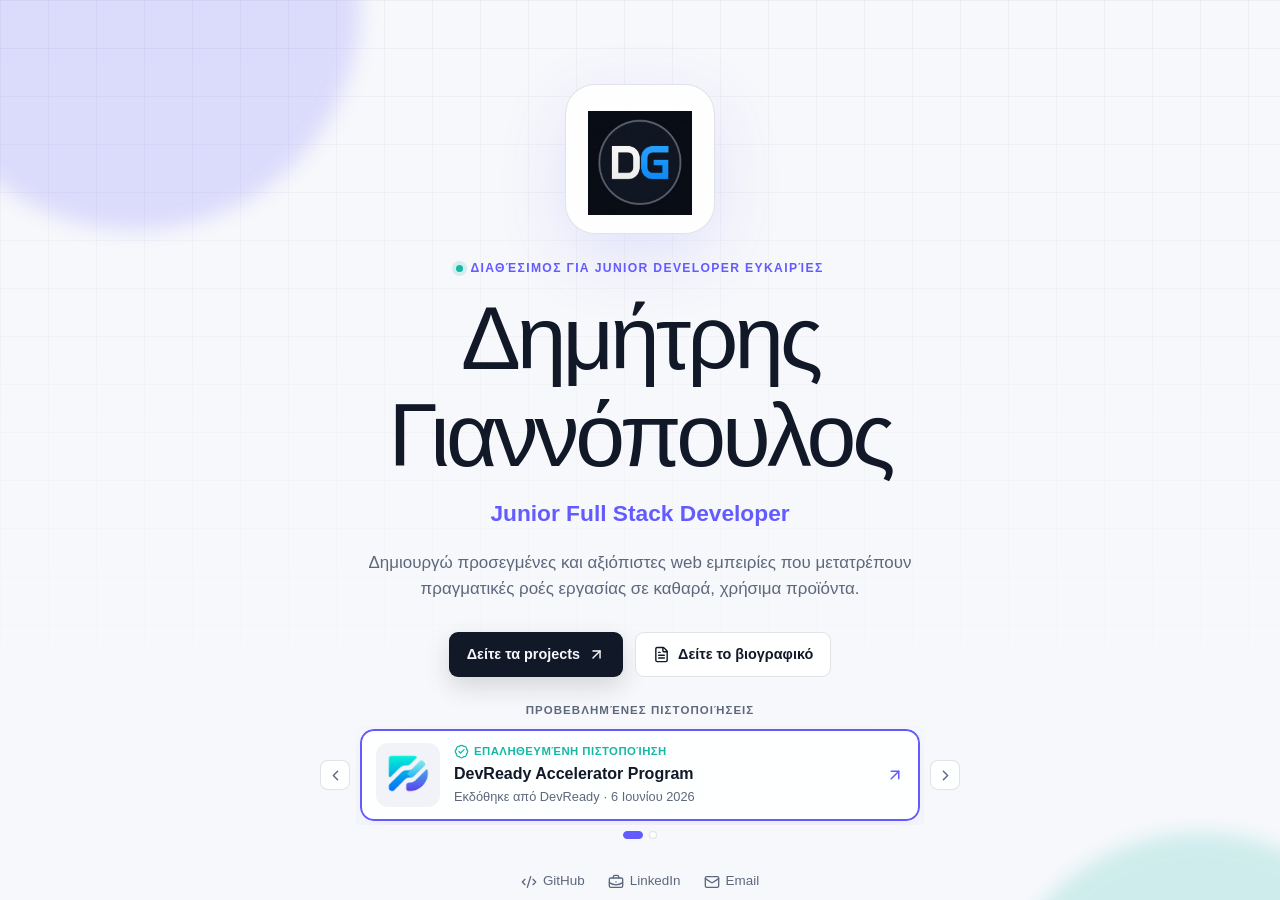
Test case: Hero credential › localizes the credential interface while preserving the official title
Expected: the text "Προβεβλημένες πιστοποιήσεις" is shown, top-left (526, 704), bottom-right (754, 716)
Expected: the text "DevReady Accelerator Program" is shown, top-left (454, 764), bottom-right (694, 782)
Step 1. Click the button named "Επόμενη πιστοποίηση" → click(945, 775), box top-left (930, 760), bottom-right (960, 790)
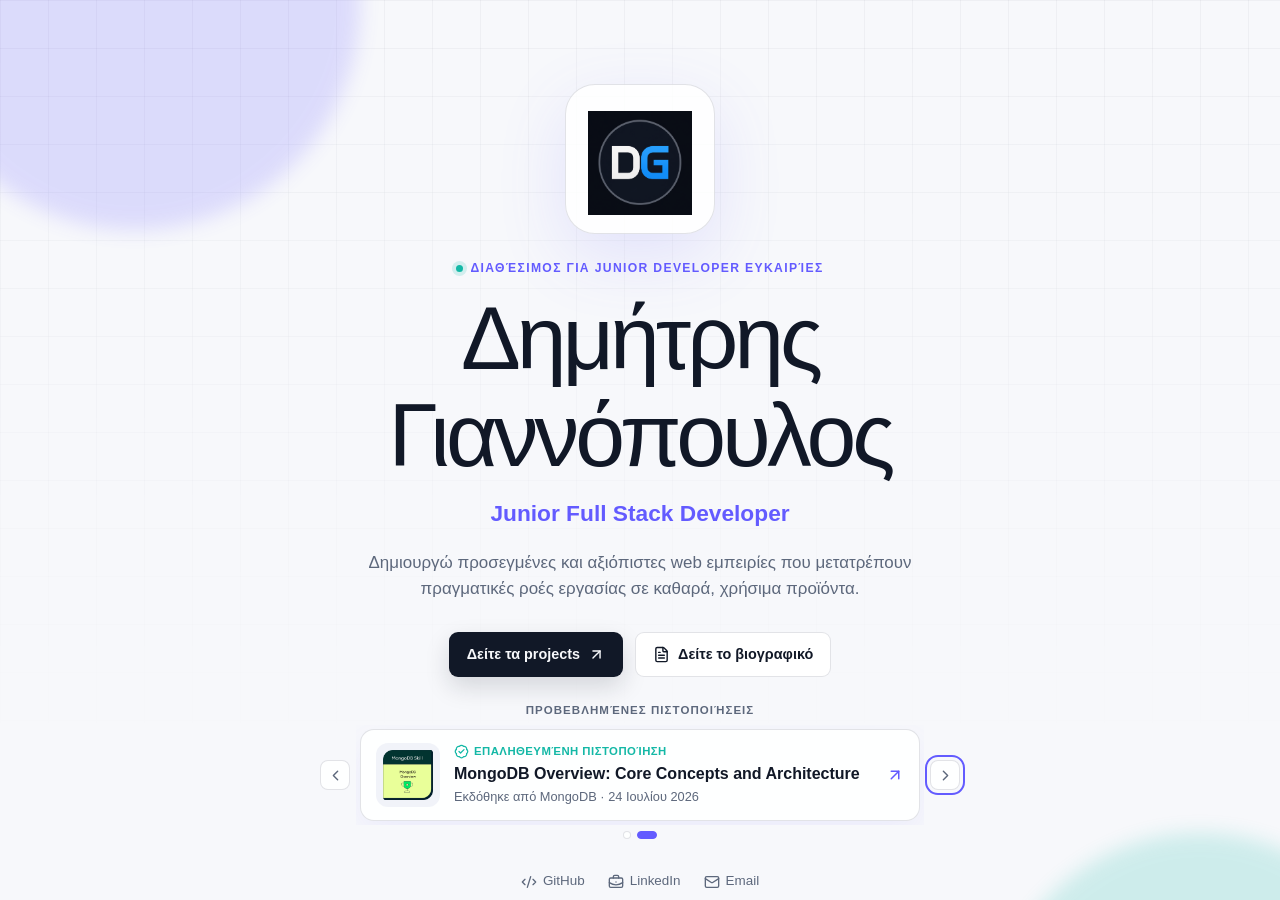
Expected: the text "MongoDB Overview: Core Concepts and Architecture" is shown, top-left (454, 764), bottom-right (872, 784)
Expected: the link named "Επαλήθευση πιστοποίησης: MongoDB Overview: Core Concepts and Architecture" is shown, top-left (360, 729), bottom-right (920, 821)
